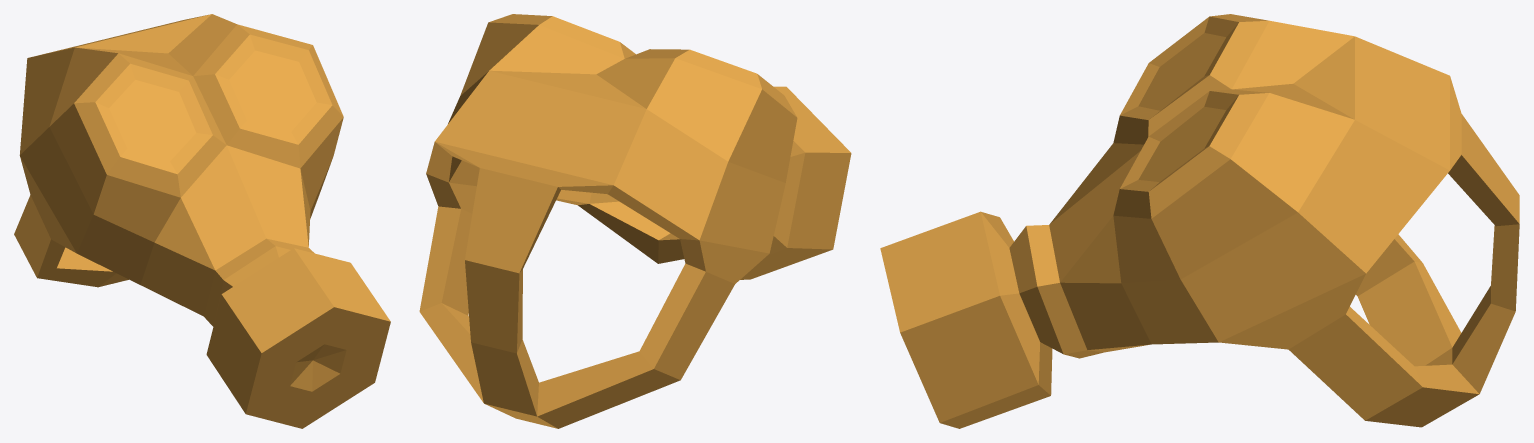
Rendered from gas-mask.fbx.
The picture shows the model from 3 angles, left to right: view 1: azimuth 30°, elevation 25°; view 2: azimuth 150°, elevation 25°; view 3: azimuth 270°, elevation 25°; orthographic projection. The views are drawn at different scales.
Visible parts, largest first — view 1: gas-mask; view 2: gas-mask; view 3: gas-mask.
Part boxes in pixels (left/top/right/bottom): gas-mask: left=14, top=14, right=390, bottom=428; gas-mask: left=419, top=14, right=851, bottom=428; gas-mask: left=880, top=14, right=1519, bottom=428.
Size of the model in its own units: 0.2542 by 0.2996 by 0.4665.
